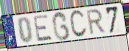0: (17, 16, 35, 45)
7: (105, 5, 120, 35)
C: (69, 9, 88, 40)
E: (32, 13, 54, 43)
G: (52, 10, 72, 42)
R: (86, 8, 107, 37)
